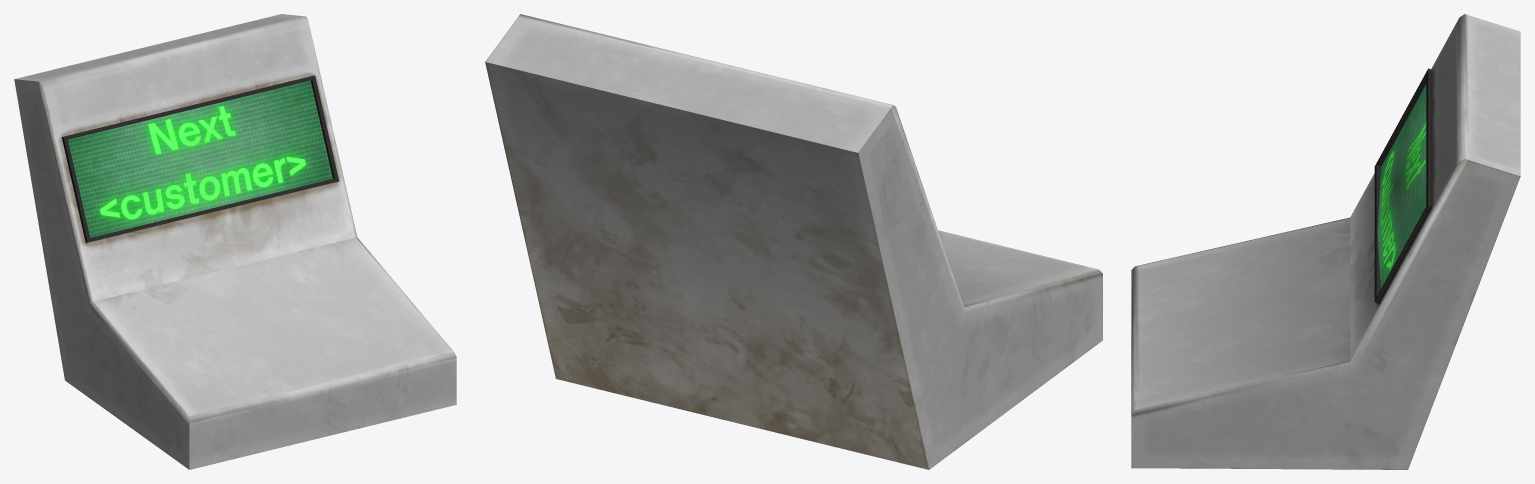
Rendered from next customer.fbx.
The picture shows the model from 3 angles, left to right: view 1: azimuth 30°, elevation 25°; view 2: azimuth 150°, elevation 25°; view 3: azimuth 270°, elevation 25°; orthographic projection. The views are drawn at different scales.
Parts seen in each view (by area): view 1: Cube.007, Screen; view 2: Cube.007; view 3: Cube.007, Screen.
Part boxes in pixels (left/top/right/bottom): Cube.007: left=14, top=14, right=456, bottom=469; Screen: left=68, top=80, right=332, bottom=237; Cube.007: left=485, top=14, right=1102, bottom=469; Cube.007: left=1131, top=14, right=1520, bottom=469; Screen: left=1377, top=84, right=1426, bottom=289.
Size of the model in its own units: 200 by 200 by 227.
Materials: 2 (2 with a texture image).
